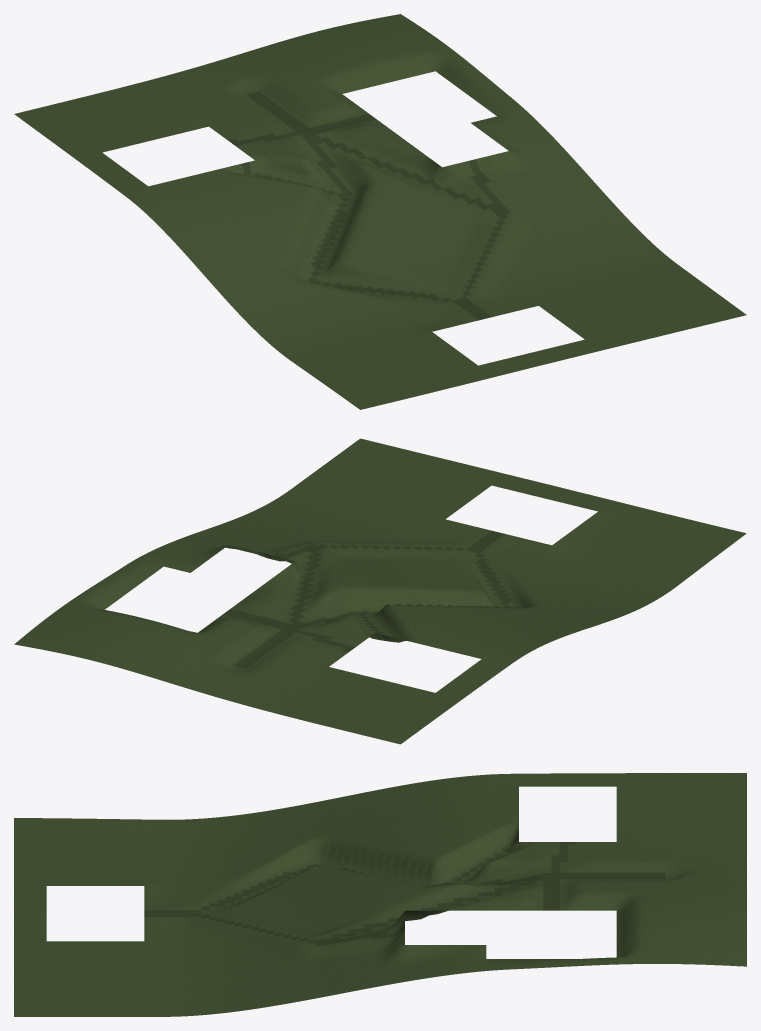
The model's file is level_site_wld_04_terrain.glb.
3 views of the same model, one above another, from view 1: azimuth 30°, elevation 25°; view 2: azimuth 150°, elevation 25°; view 3: azimuth 270°, elevation 25° (orthographic). The views are drawn at different scales.
Visible parts, largest first — view 1: level_site_wld_04_terrain; view 2: level_site_wld_04_terrain; view 3: level_site_wld_04_terrain.
Boxes of the visible parts, left/top/right/bottom form: level_site_wld_04_terrain: left=14, top=14, right=746, bottom=409; level_site_wld_04_terrain: left=14, top=438, right=746, bottom=744; level_site_wld_04_terrain: left=14, top=773, right=746, bottom=1016.
Size of the model in its own units: 58 by 8.24 by 90.
Materials: 2 (2 with a texture image).
